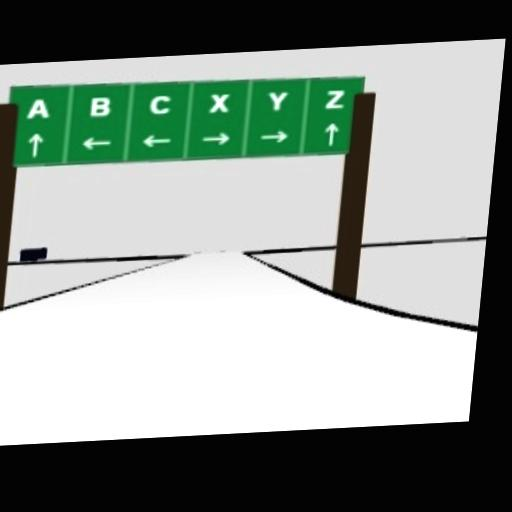A: (25, 95, 52, 118)
B: (88, 94, 111, 116)
C: (149, 93, 172, 113)
Left: (141, 131, 173, 147), (81, 134, 113, 150)
Right: (199, 129, 232, 145), (258, 128, 289, 142)
Straight: (322, 120, 339, 144), (27, 131, 43, 156)
X: (208, 92, 228, 112)
Y: (266, 89, 287, 111)
Z: (325, 87, 345, 107)
